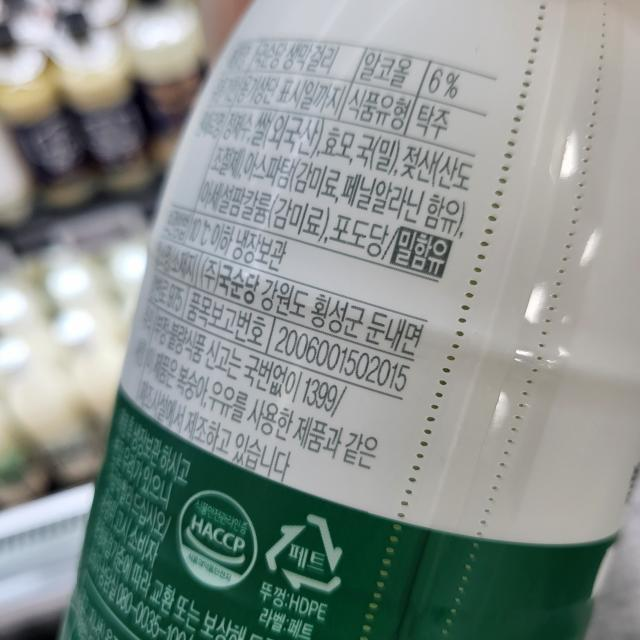PET: (261, 509, 350, 595)
